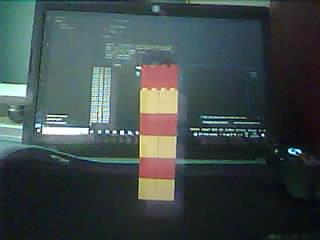lego: (138, 62, 180, 200)
